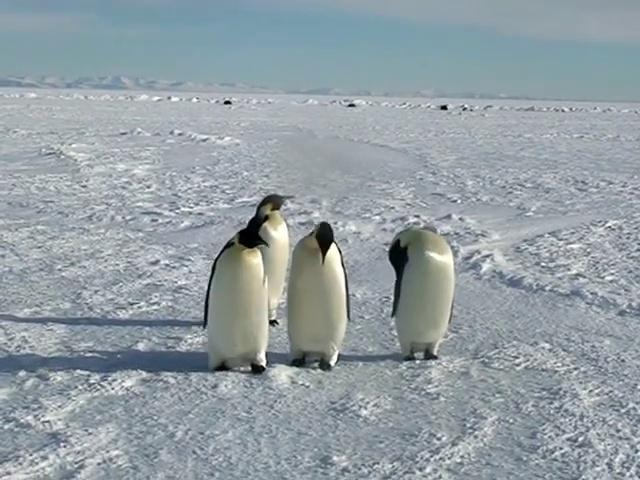animal: (390, 227, 456, 360)
